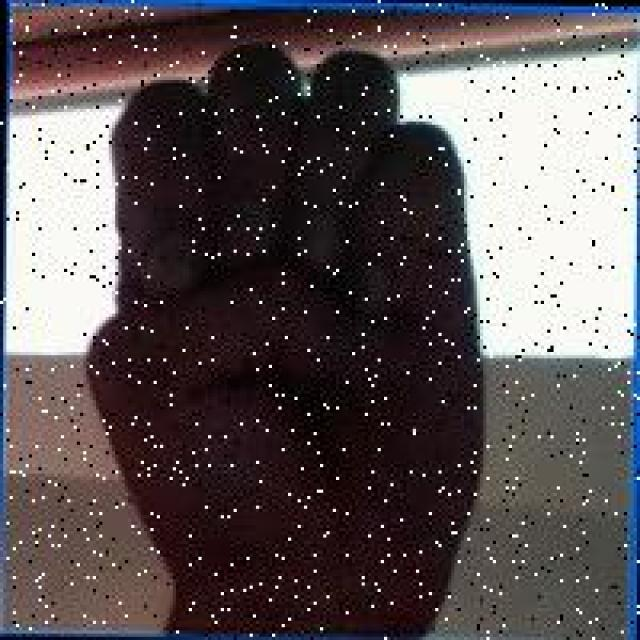E: (79, 35, 492, 621)
